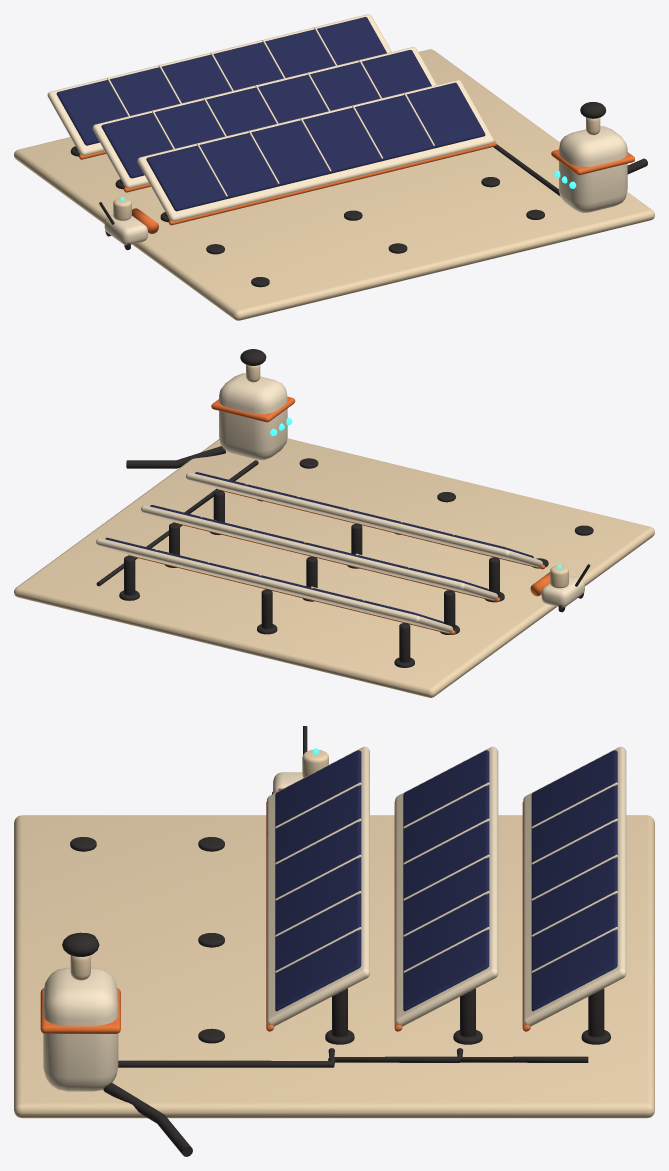
The model's file is solar-10.glb.
3 views of the same model, one above another, from view 1: azimuth 30°, elevation 25°; view 2: azimuth 150°, elevation 25°; view 3: azimuth 270°, elevation 25° (orthographic). The views are drawn at different scales.
Visible parts, largest first — view 1: Cube, Cube.002, Cube.001, Cube.008, Cylinder; view 2: Cube, Cube.001, Cylinder, Cube.002, Cube.008; view 3: Cube, Cube.002, Cube.001, Cylinder, Cube.008.
Boxes of the visible parts, bbox=[...] form: Cube: bbox=[14, 49, 654, 320]; Cube.002: bbox=[56, 17, 485, 211]; Cube.001: bbox=[47, 14, 627, 245]; Cube.008: bbox=[79, 141, 634, 233]; Cylinder: bbox=[70, 102, 647, 287]; Cube: bbox=[14, 364, 654, 697]; Cube.001: bbox=[96, 373, 584, 632]; Cylinder: bbox=[96, 349, 593, 667]; Cube.002: bbox=[105, 472, 533, 623]; Cube.008: bbox=[128, 396, 550, 634]; Cube: bbox=[14, 749, 654, 1118]; Cube.002: bbox=[275, 750, 617, 1011]; Cube.001: bbox=[43, 746, 626, 1091]; Cylinder: bbox=[62, 726, 610, 1156]; Cube.008: bbox=[40, 788, 530, 1033].
Bounding box in the file's own units: 3.13 × 0.6585 × 2.4.
